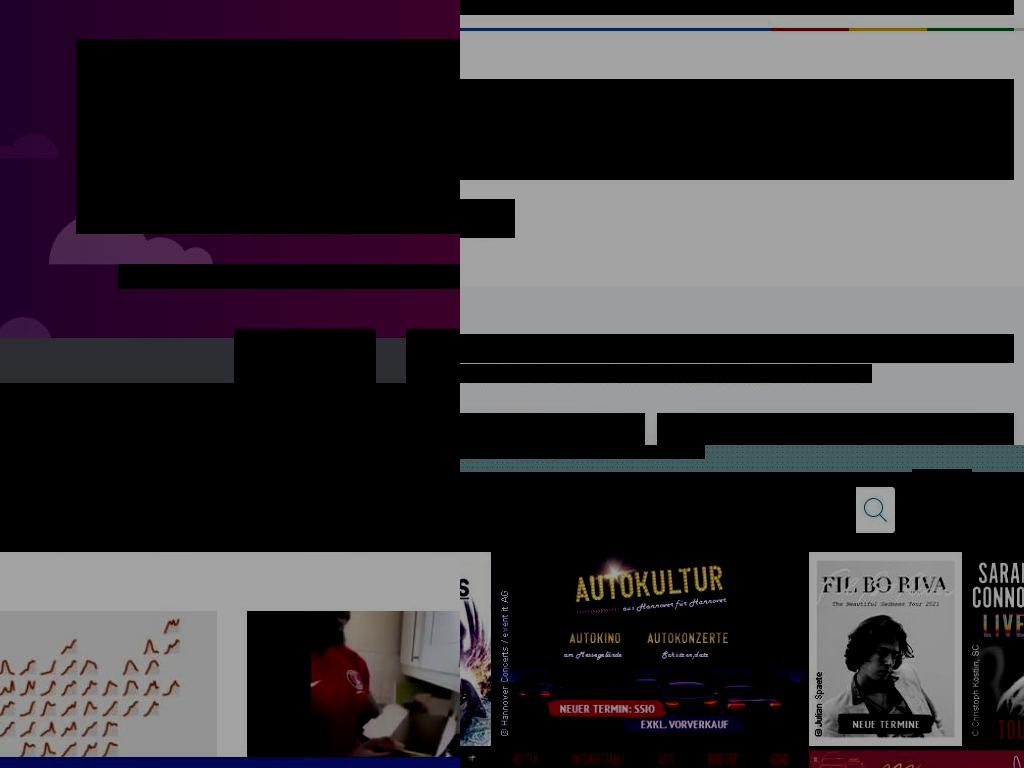button: (542, 550, 857, 749), (247, 611, 460, 768), (856, 550, 1014, 749), (460, 550, 543, 749), (234, 329, 376, 399), (912, 469, 972, 545), (406, 329, 460, 399), (1013, 550, 1024, 749), (460, 199, 515, 238), (990, 493, 1014, 521)
field: (460, 487, 856, 533)
heading: (76, 39, 460, 234)
image: (542, 550, 853, 745), (0, 445, 460, 552), (0, 611, 217, 768), (247, 611, 460, 768), (856, 550, 1010, 745), (460, 550, 539, 745), (657, 413, 1014, 445), (1013, 550, 1024, 745)
link: (460, 445, 705, 459), (666, 364, 768, 383), (990, 495, 1014, 520)
text: (460, 79, 1014, 136), (0, 383, 460, 445), (460, 135, 1014, 180), (460, 334, 1014, 363), (118, 264, 460, 289), (460, 0, 1014, 15), (460, 364, 667, 383), (767, 364, 872, 383), (930, 496, 954, 521)
